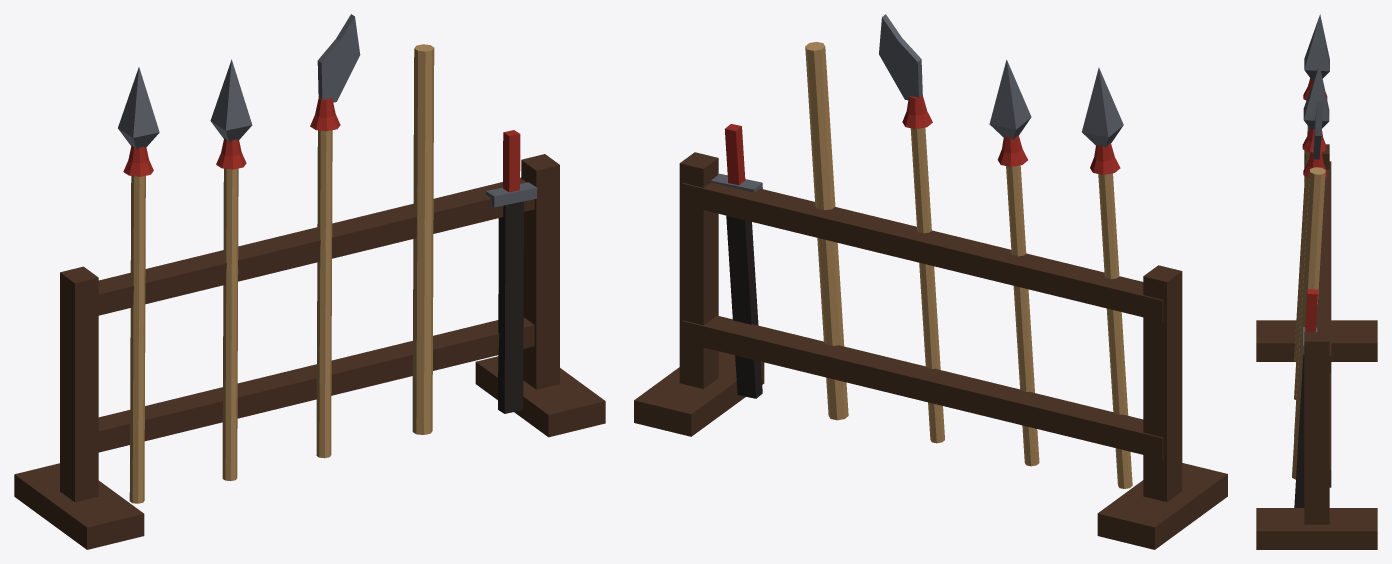
The model's file is fn_rack.glb.
The picture shows the model from 3 angles, left to right: view 1: azimuth 30°, elevation 25°; view 2: azimuth 150°, elevation 25°; view 3: azimuth 270°, elevation 25°; orthographic projection. The views are drawn at different scales.
Parts seen in each view (by area): view 1: fn_rack__wood_dark, fn_rack__wood_pine, fn_rack__metal, fn_rack__wood_black, fn_rack__cloth_red; view 2: fn_rack__wood_dark, fn_rack__wood_pine, fn_rack__metal, fn_rack__wood_black, fn_rack__cloth_red; view 3: fn_rack__wood_dark, fn_rack__wood_pine, fn_rack__metal, fn_rack__cloth_red, fn_rack__wood_black.
Boxes of the visible parts, x1=… form: fn_rack__wood_dark: x1=14, y1=154, x2=605, y2=549; fn_rack__wood_pine: x1=129, y1=44, x2=434, y2=503; fn_rack__metal: x1=118, y1=14, x2=537, y2=207; fn_rack__wood_black: x1=498, y1=201, x2=523, y2=413; fn_rack__cloth_red: x1=123, y1=98, x2=520, y2=192; fn_rack__wood_dark: x1=634, y1=152, x2=1227, y2=549; fn_rack__wood_pine: x1=805, y1=42, x2=1132, y2=488; fn_rack__metal: x1=711, y1=14, x2=1123, y2=192; fn_rack__wood_black: x1=726, y1=215, x2=762, y2=398; fn_rack__cloth_red: x1=724, y1=95, x2=1120, y2=185; fn_rack__wood_dark: x1=1256, y1=144, x2=1377, y2=549; fn_rack__wood_pine: x1=1292, y1=126, x2=1325, y2=479; fn_rack__metal: x1=1302, y1=14, x2=1329, y2=354; fn_rack__cloth_red: x1=1302, y1=78, x2=1327, y2=331; fn_rack__wood_black: x1=1294, y1=354, x2=1304, y2=507.
Size of the model in its own units: 21.8 by 17.42 by 5.3.
